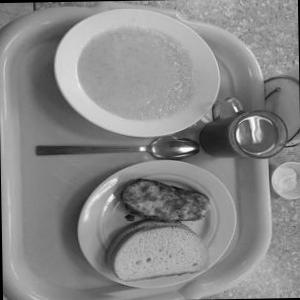bread: (94, 219, 235, 295)
cheese_sandwich: (117, 168, 214, 226)
coffee: (194, 106, 289, 160)
porridge: (57, 12, 208, 132)
